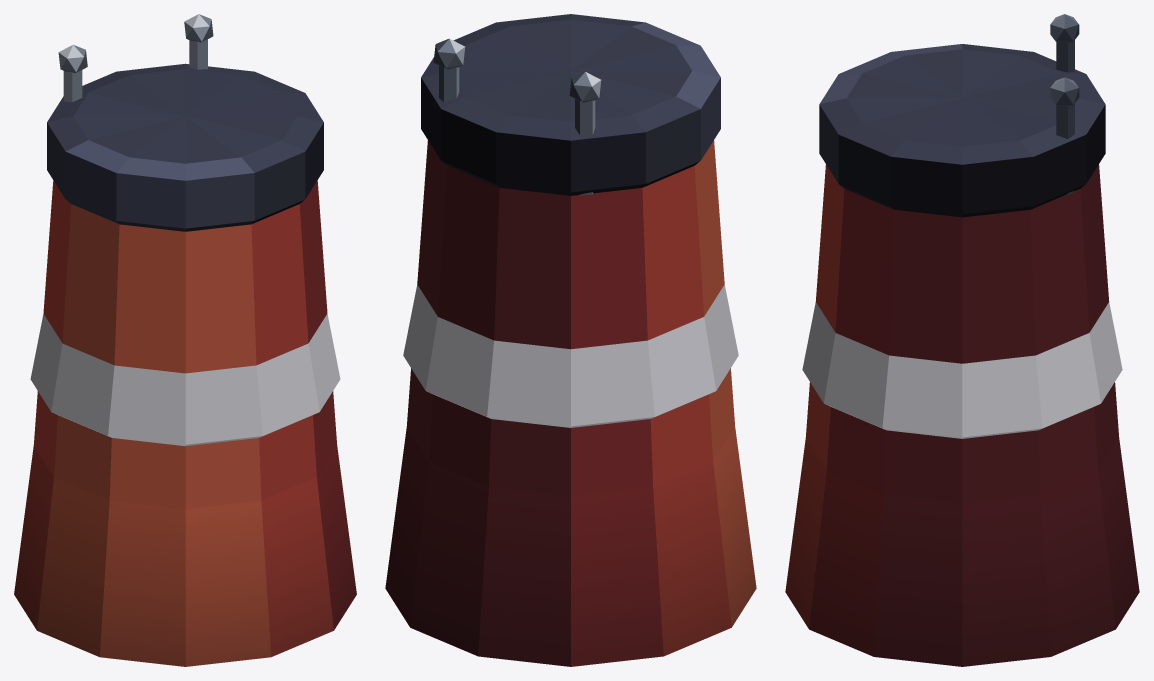
File: ship_funnel.glb
3 renders of one model, left to right at view 1: azimuth 30°, elevation 25°; view 2: azimuth 150°, elevation 25°; view 3: azimuth 270°, elevation 25°, orthographic. The views are drawn at different scales.
Parts seen in each view (by area): view 1: ship_funnel; view 2: ship_funnel; view 3: ship_funnel.
Part boxes in pixels (x1=…): ship_funnel: x1=14, y1=14, x2=356, y2=666; ship_funnel: x1=385, y1=14, x2=756, y2=666; ship_funnel: x1=785, y1=14, x2=1139, y2=666.
Size of the model in its own units: 1.04 by 1.77 by 1.04.
